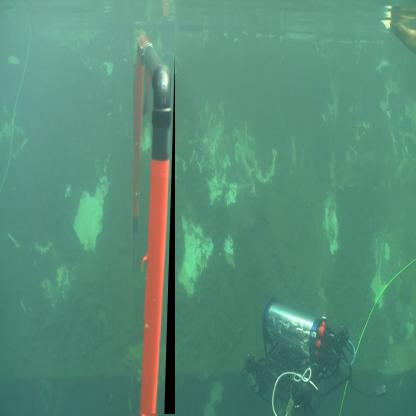gate: (134, 22, 177, 416)
